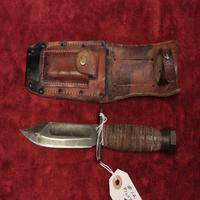knife: (14, 110, 183, 155)
